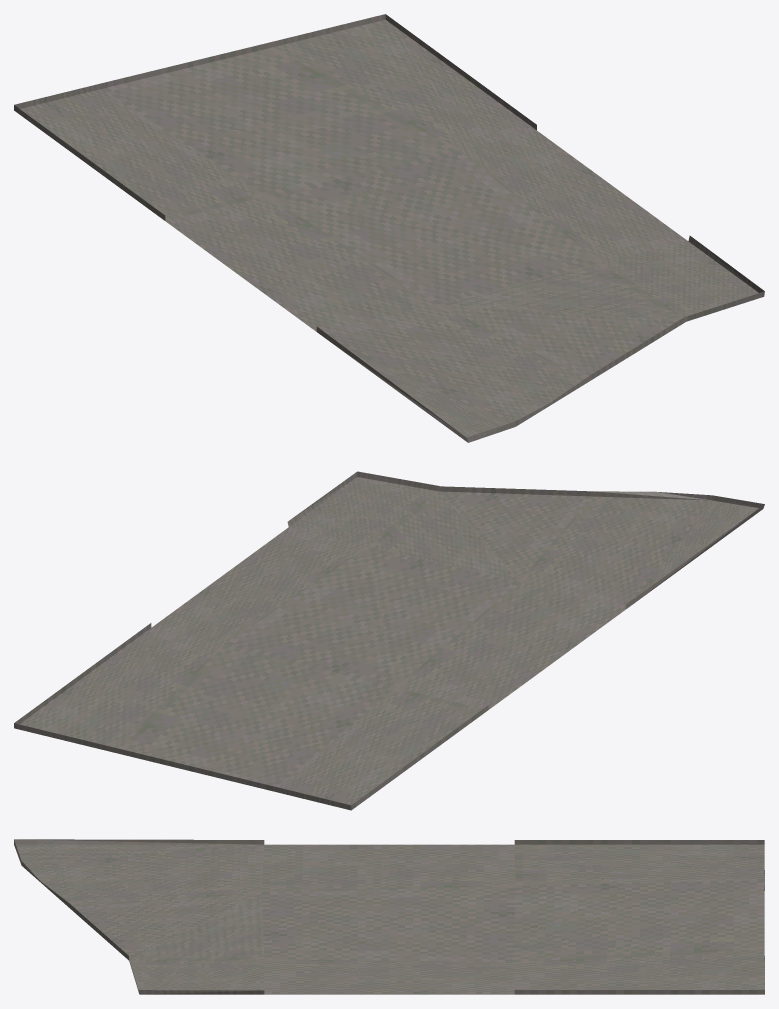
The model's file is lodfigfree1_lan.obj.
3 views of the same model, one above another, from view 1: azimuth 30°, elevation 25°; view 2: azimuth 150°, elevation 25°; view 3: azimuth 270°, elevation 25° (orthographic). The views are drawn at different scales.
Parts seen in each view (by area): view 1: LODfigfree1_LAn; view 2: LODfigfree1_LAn; view 3: LODfigfree1_LAn.
Boxes of the visible parts, left/top/right/bottom form: LODfigfree1_LAn: left=14, top=14, right=764, bottom=442; LODfigfree1_LAn: left=14, top=471, right=764, bottom=810; LODfigfree1_LAn: left=14, top=839, right=764, bottom=994.
Size of the model in its own units: 57.17 by 0.8432 by 120.
1 material, 1 textured.
